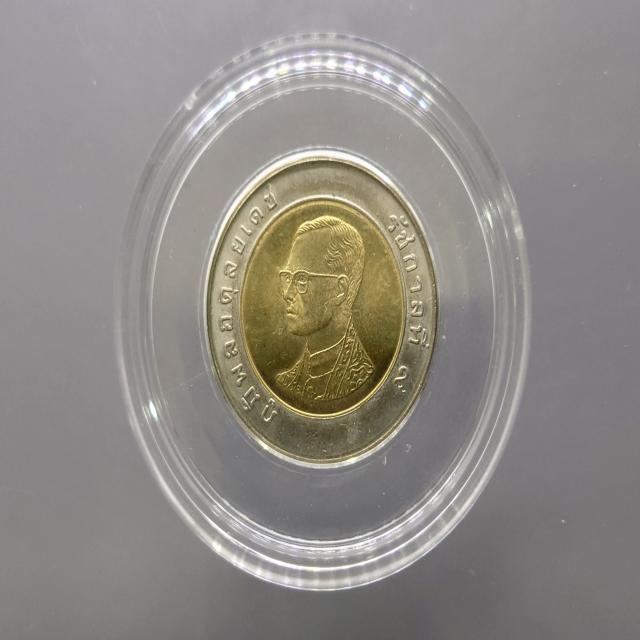10 Bath: (204, 152, 438, 468)
